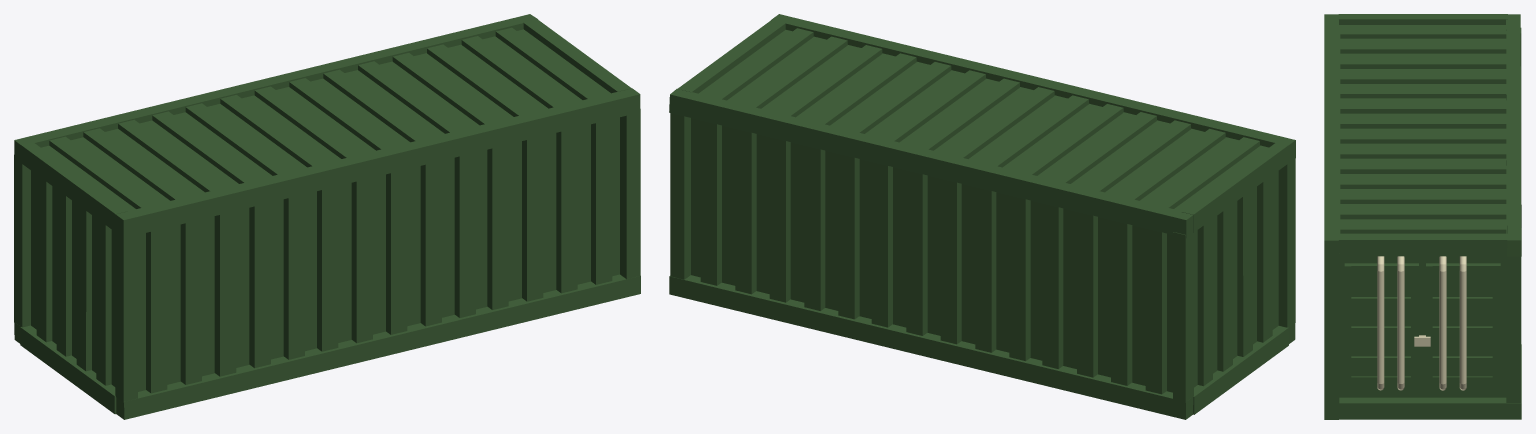
Rendered from cargo1.fbx.
The picture shows the model from 3 angles, left to right: view 1: azimuth 30°, elevation 25°; view 2: azimuth 150°, elevation 25°; view 3: azimuth 270°, elevation 25°; orthographic projection. The views are drawn at different scales.
Parts seen in each view (by area): view 1: Cube, Cube.002, Cube.021, Cube.003, Cube.017, Cube.011, Cube.007, Cube.001, Cube.010, Cube.012; view 2: Cube, Cube.008, Cube.021, Cube.003, Cube.017, Cube.011, Cube.010, Cube.001, Cube.007, Cube.012; view 3: Cube.021, Cube, Cube.020, Cube.003, Cube.001, Cylinder.001, Cube.012, Cube.010, Cube.007, Cube.017.
Part boxes in pixels (x1,y1,x2,y2): Cube: [31, 29, 619, 391]; Cube.002: [146, 119, 612, 393]; Cube.021: [49, 27, 603, 208]; Cube.003: [14, 14, 640, 238]; Cube.017: [14, 274, 640, 419]; Cube.011: [36, 175, 111, 385]; Cube.007: [115, 109, 640, 402]; Cube.001: [21, 19, 631, 231]; Cube.010: [14, 155, 30, 327]; Cube.012: [20, 325, 116, 414]; Cube: [691, 30, 1278, 392]; Cube.008: [700, 120, 1166, 394]; Cube.021: [706, 28, 1259, 208]; Cube.003: [669, 14, 1295, 238]; Cube.017: [669, 275, 1295, 419]; Cube.011: [1197, 175, 1272, 386]; Cube.010: [670, 113, 1193, 402]; Cube.001: [677, 20, 1287, 232]; Cube.007: [1278, 158, 1295, 327]; Cube.012: [1193, 326, 1288, 414]; Cube.021: [1340, 27, 1506, 233]; Cube: [1339, 25, 1506, 397]; Cube.020: [1344, 263, 1500, 384]; Cube.003: [1324, 14, 1521, 256]; Cube.001: [1338, 14, 1507, 256]; Cylinder.001: [1377, 256, 1466, 390]; Cube.012: [1339, 397, 1507, 419]; Cube.010: [1506, 28, 1521, 402]; Cube.007: [1324, 254, 1339, 404]; Cube.017: [1324, 344, 1521, 419].
Size of the model in its own units: 1442 by 532 by 530.
